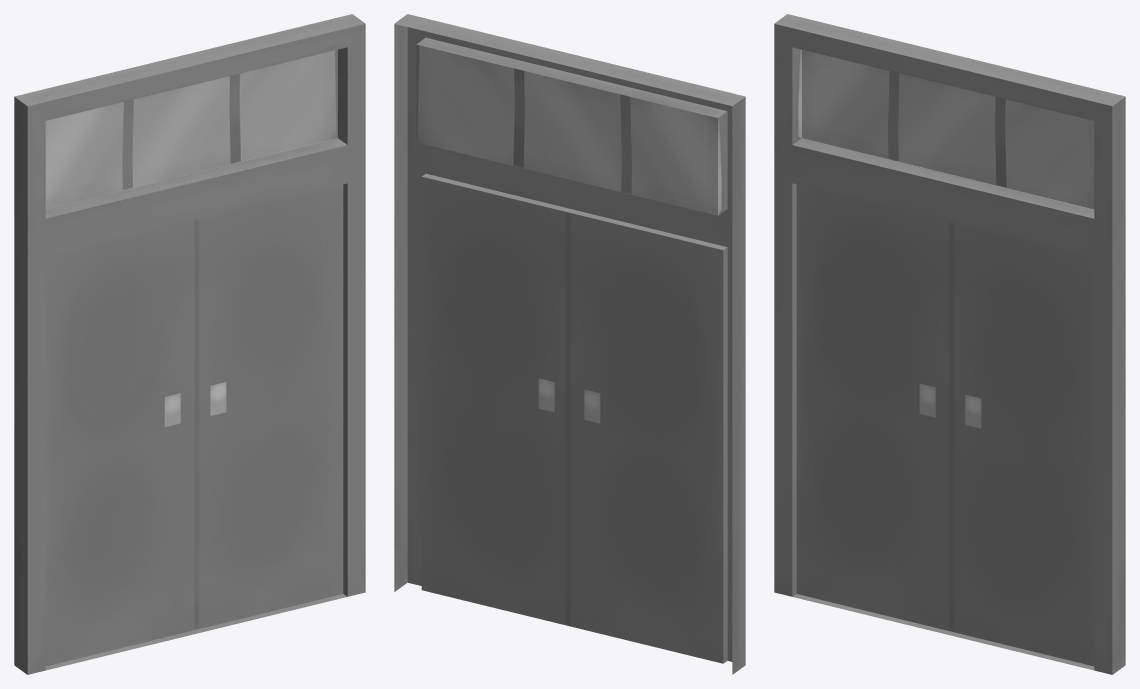
The model's file is door_1.fbx.
The picture shows the model from 3 angles, left to right: view 1: azimuth 30°, elevation 25°; view 2: azimuth 150°, elevation 25°; view 3: azimuth 330°, elevation 25°; orthographic projection.
Parts seen in each view (by area): view 1: door_1; view 2: door_1; view 3: door_1.
Boxes of the visible parts, x1=… form: door_1: x1=14, y1=14, x2=365, y2=674; door_1: x1=394, y1=14, x2=745, y2=674; door_1: x1=774, y1=14, x2=1125, y2=674.
Bounding box in the file's own units: 3.33 × 5.36 × 0.2273.
1 material, 1 textured.
